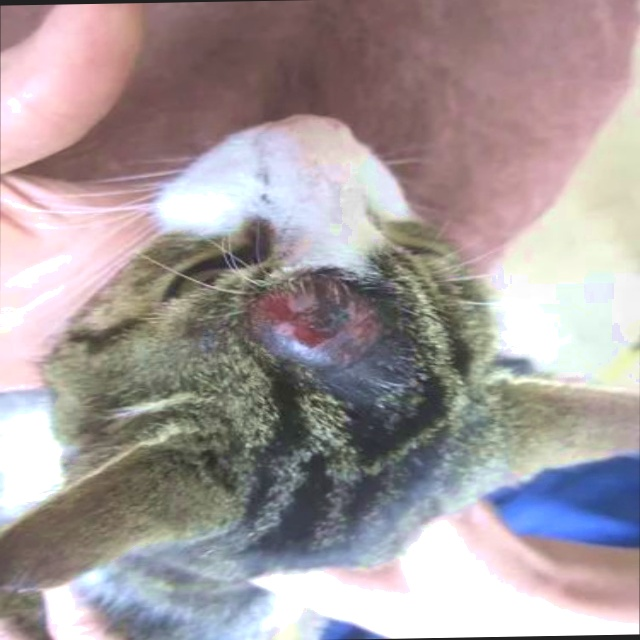lump_and_bump: (243, 281, 396, 372)
